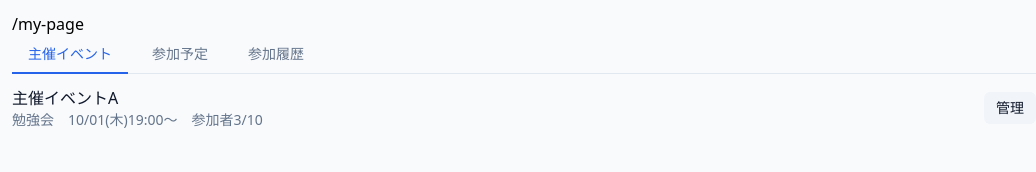
Test: MyPageTabs › 「参加履歴」タブクリックで参加履歴イベントが表示されること
Click the button "参加履歴". click: (276, 55)
box: [232, 36, 320, 74]
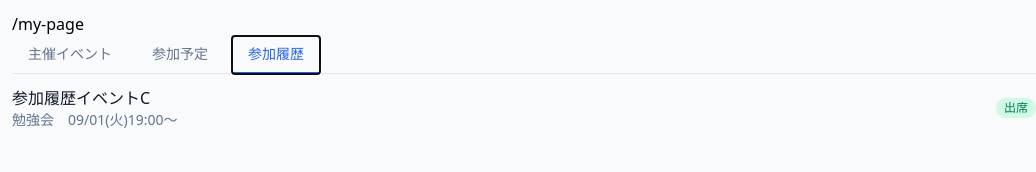
Expected: the text "参加履歴イベントC" is shown, [12, 87, 150, 109]
